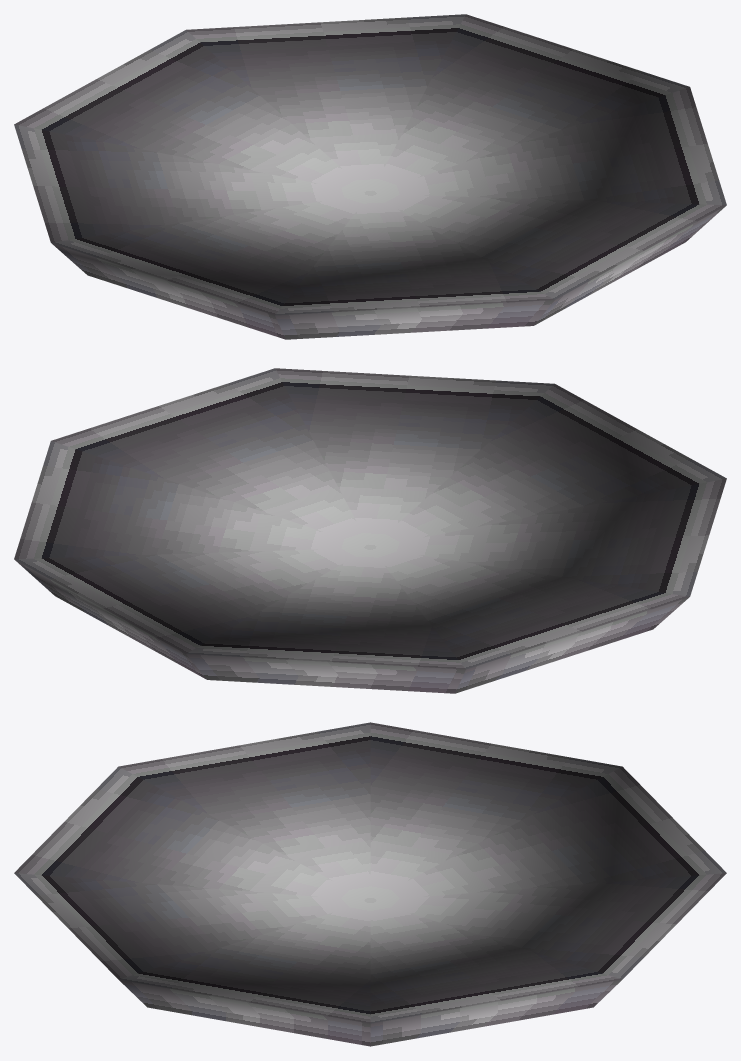
The model's file is plate.obj.
The picture shows the model from 3 angles, top to bottom: view 1: azimuth 30°, elevation 25°; view 2: azimuth 150°, elevation 25°; view 3: azimuth 270°, elevation 25°; orthographic projection. The views are drawn at different scales.
Visible parts, largest first — view 1: plate.m2; view 2: plate.m2; view 3: plate.m2.
Part boxes in pixels (bbox=[...]): plate.m2: bbox=[14, 14, 726, 339]; plate.m2: bbox=[14, 368, 726, 693]; plate.m2: bbox=[14, 722, 726, 1046].
Size of the model in its own units: 0.4974 by 0.0309 by 0.4974.
1 material, 1 textured.
